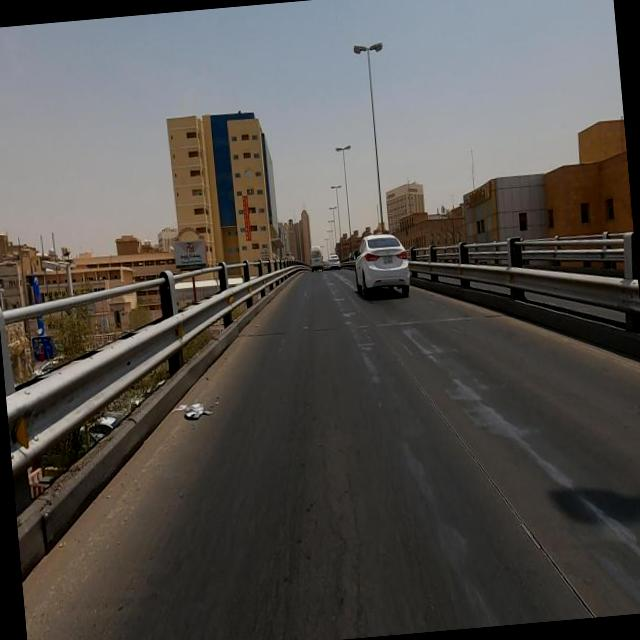debris: (144, 346, 252, 468)
